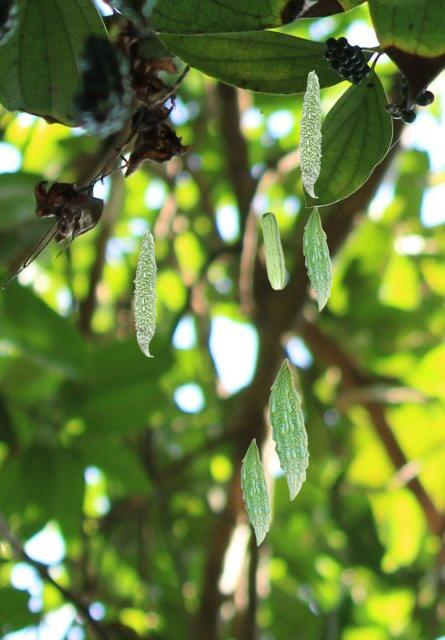ampalaya: (268, 358, 309, 501), (297, 69, 323, 198), (132, 228, 158, 357), (240, 438, 271, 546), (302, 205, 333, 312), (260, 211, 287, 290)
